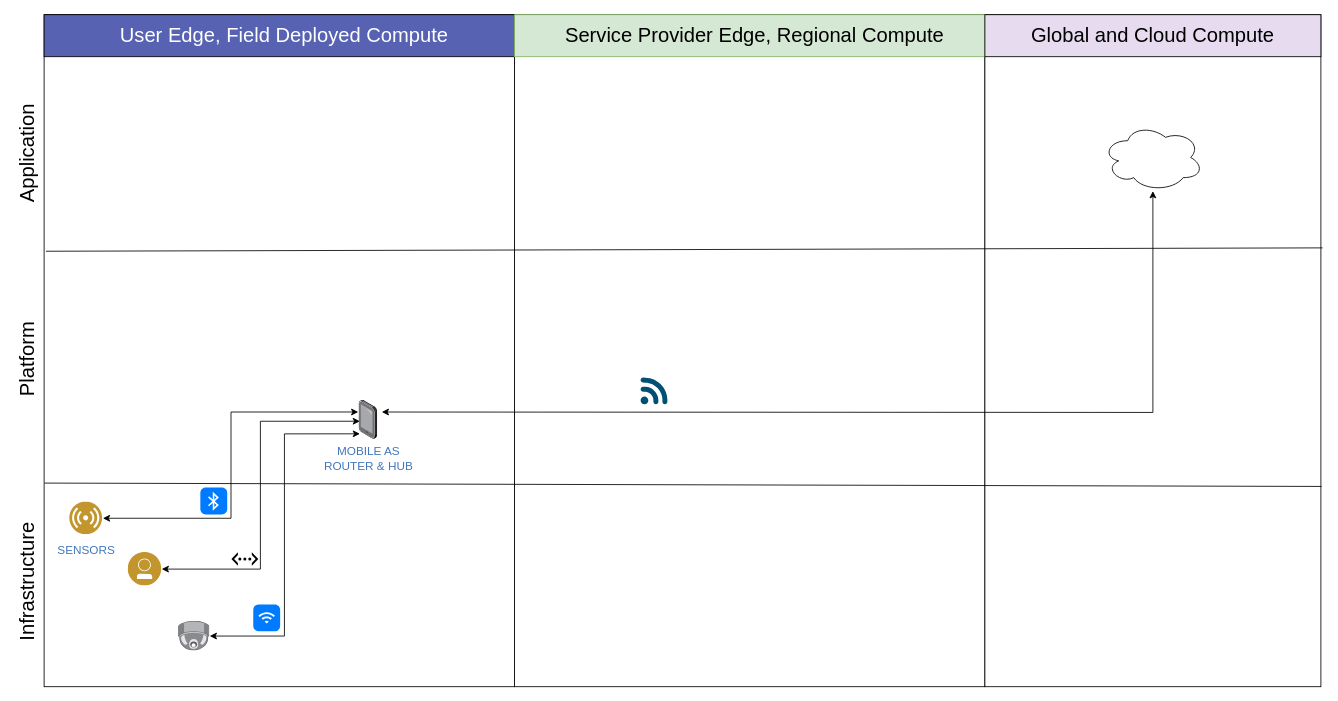
Some shapes in this 1338 by 701 pixel diagram are drawn without their labels. Here are the shapes that lost their labels. From the top down, the centre of each, then its label:
point (1152, 157): CLOUD SERVICES
point (144, 568): ROBOTS
point (193, 635): CAMERAS
